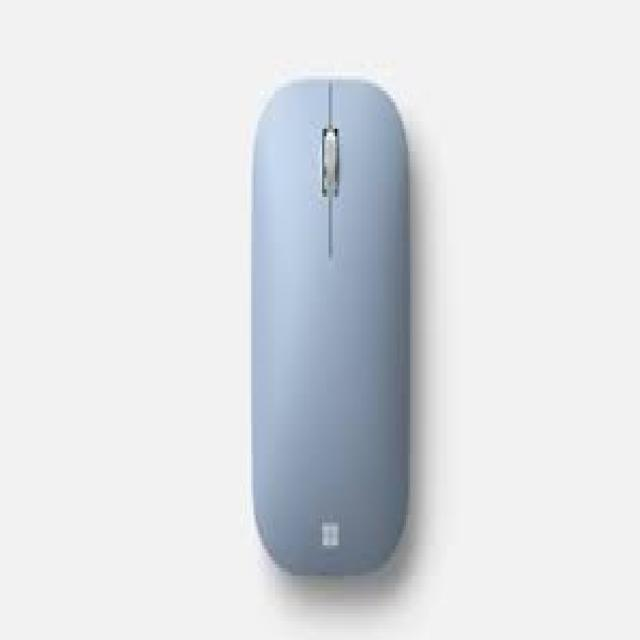others: (242, 53, 414, 587)
